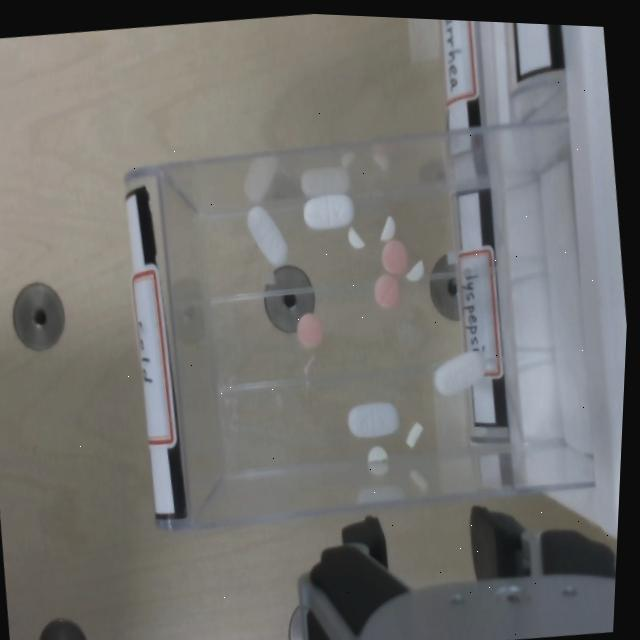amoxicle_tab: (247, 204, 286, 265), (432, 350, 482, 393), (346, 400, 397, 437), (302, 193, 351, 228)
panstar_tab: (379, 238, 405, 275), (373, 274, 398, 307), (297, 314, 320, 348)
sudafed_tab: (404, 420, 421, 446), (404, 259, 422, 280), (379, 214, 393, 240), (346, 225, 362, 247), (366, 444, 385, 460)
